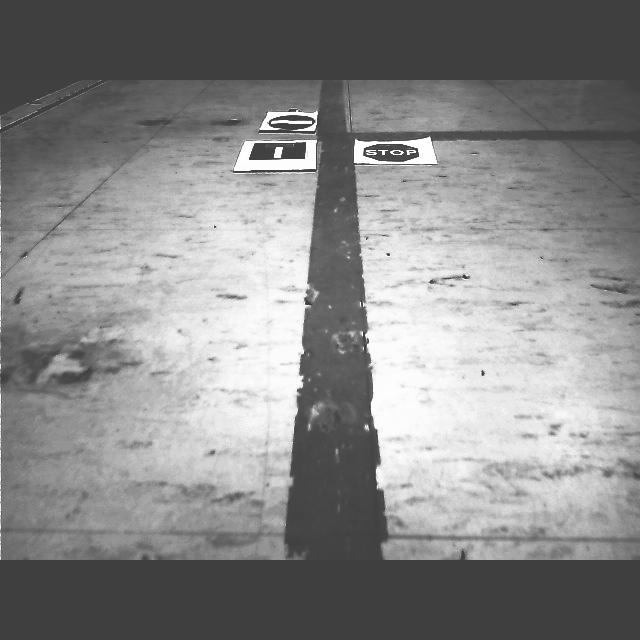DEAD END: (249, 141, 309, 161)
NO ENTRY: (268, 114, 315, 130)
STOP: (364, 143, 418, 161)
